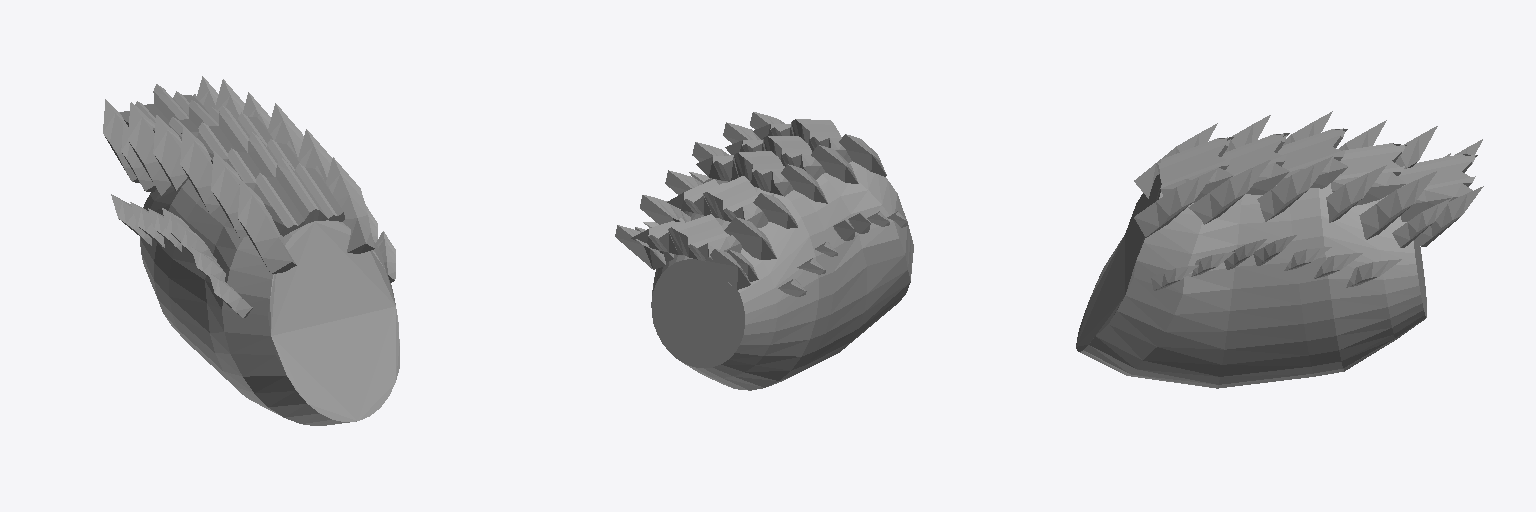
Rendered from LowBody.obj.
3 renders of one model, left to right at view 1: azimuth 30°, elevation 25°; view 2: azimuth 150°, elevation 25°; view 3: azimuth 270°, elevation 25°, orthographic.
Visible parts, largest first — view 1: 胴体.001; view 2: 胴体.001; view 3: 胴体.001.
Boxes of the visible parts, box(x1,y1,x2,y2) form: 胴体.001: box(103, 76, 399, 425); 胴体.001: box(615, 112, 913, 390); 胴体.001: box(1076, 111, 1483, 388).
Size of the model in its own units: 1.3 by 1.75 by 2.54.